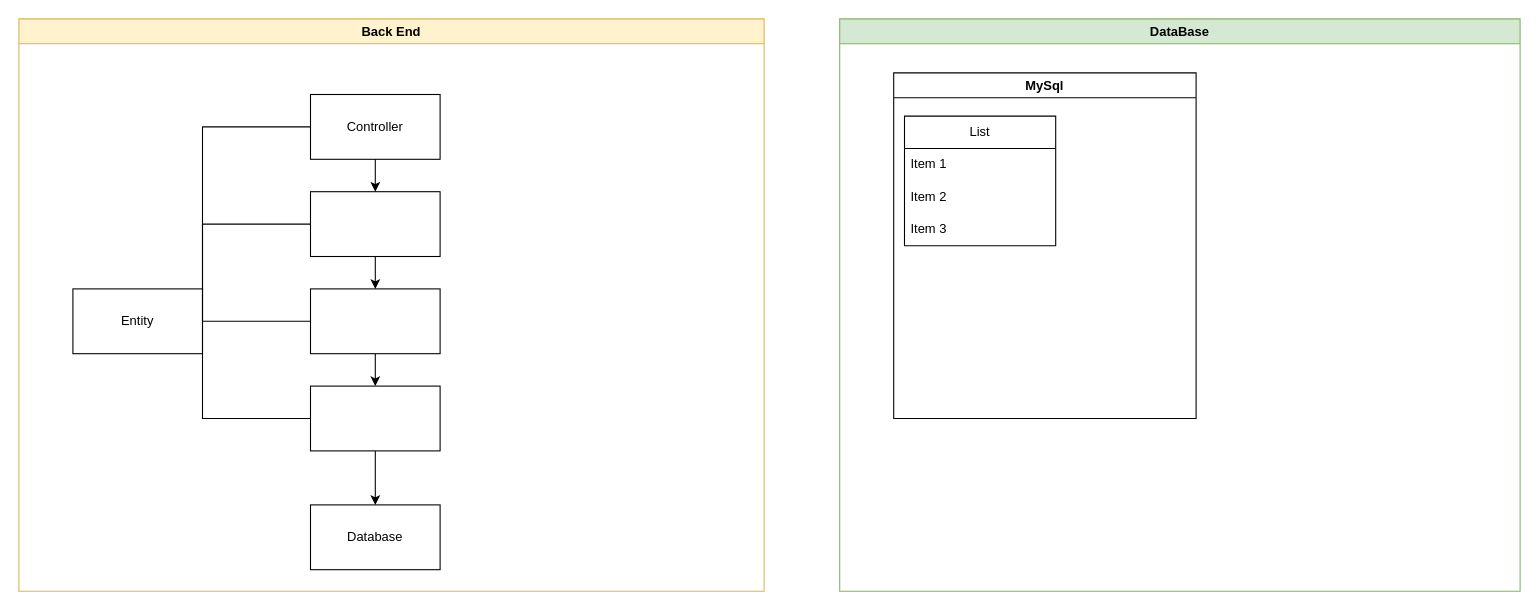
Some shapes in this 1539 by 610 pixel diagram are drawn without their labels. The shapes that lost their labels are listed below. From the top down, each one's centre as x and y in pixels, then its label:
(x=374, y=223): Action
(x=374, y=321): Service
(x=374, y=418): DAO
